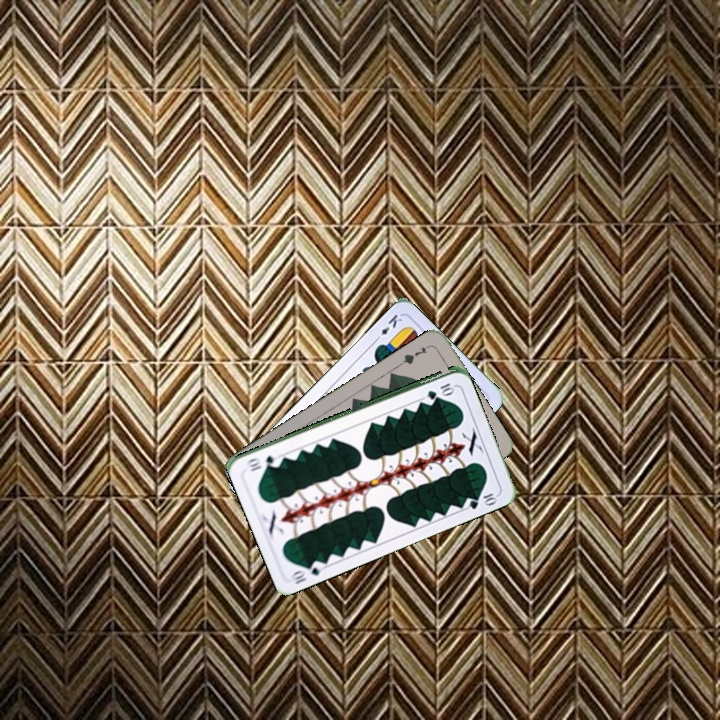EK: (370, 310, 405, 344)
G10: (287, 556, 327, 587), (423, 379, 456, 401)
G7: (396, 341, 433, 368)
